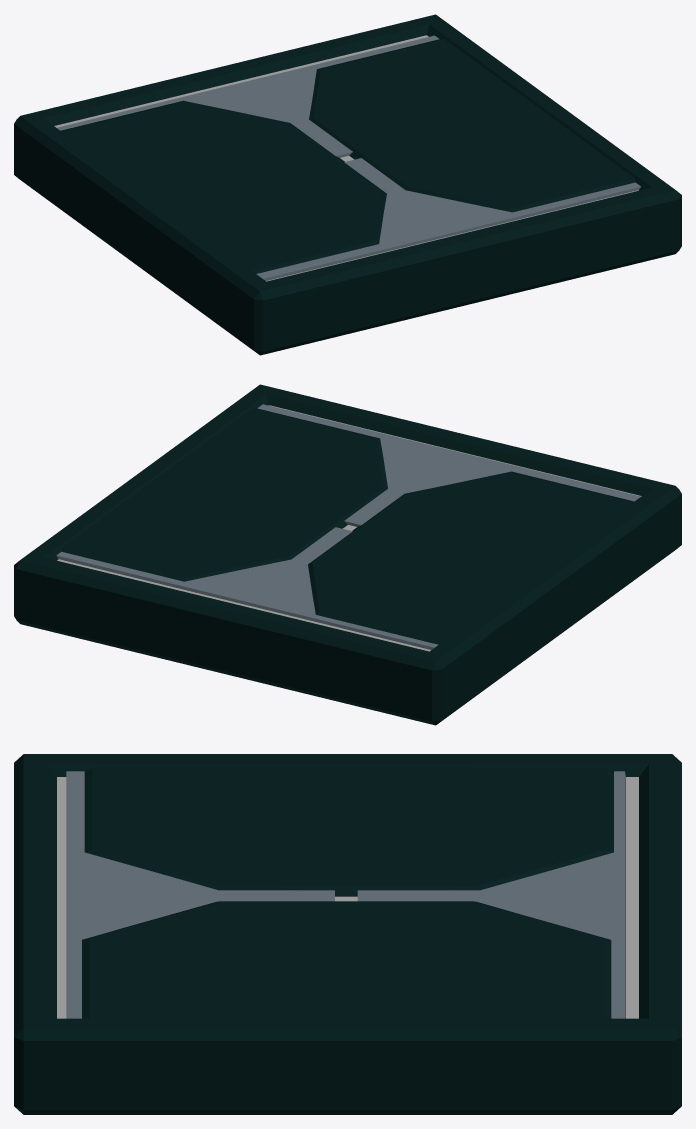
File: Platform_5.fbx
3 renders of one model, top to bottom at view 1: azimuth 30°, elevation 25°; view 2: azimuth 150°, elevation 25°; view 3: azimuth 270°, elevation 25°, orthographic. The views are drawn at different scales.
Visible parts, largest first — view 1: Platform_5; view 2: Platform_5; view 3: Platform_5.
Boxes of the visible parts, <box> form: Platform_5: <box>14,14,681,355</box>; Platform_5: <box>14,384,681,725</box>; Platform_5: <box>14,754,681,1114</box>.
Bounding box in the file's own units: 9.98 × 1.43 × 9.98.
